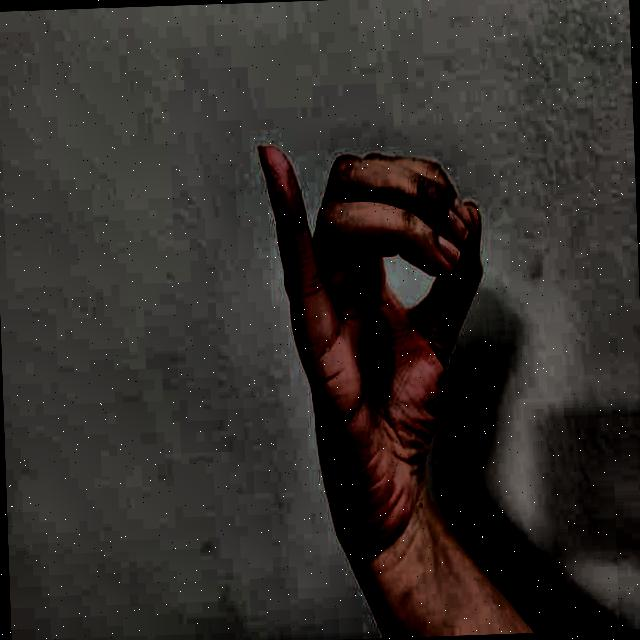Ou: (235, 88, 512, 560)
